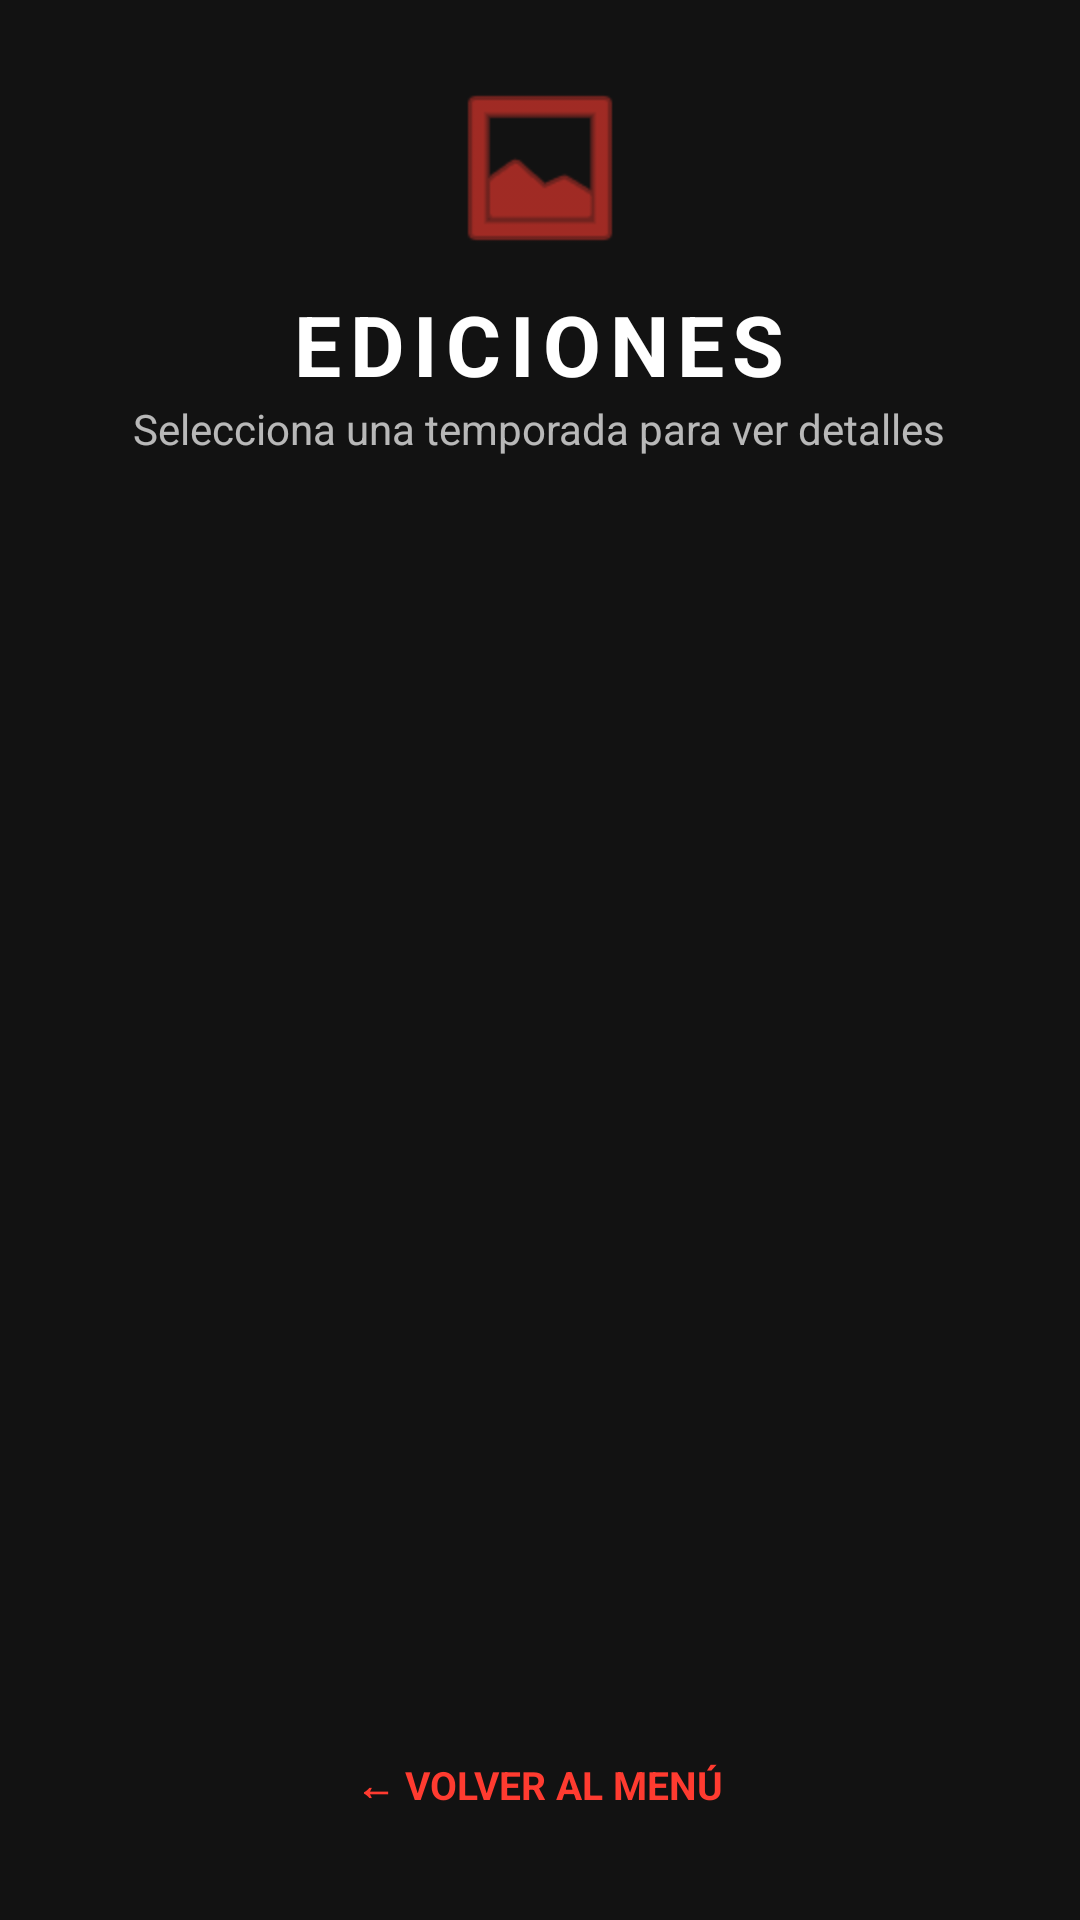

Named icons in this screenshot (1080x1920) and their bounding boxes, (x1, y1, x2, y2):
gallery: (468, 95, 612, 241)
